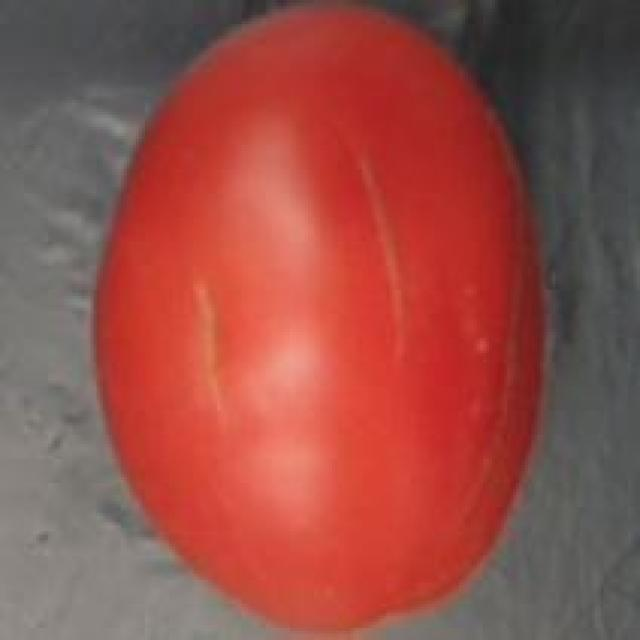ripe tomato: (72, 0, 564, 640)
